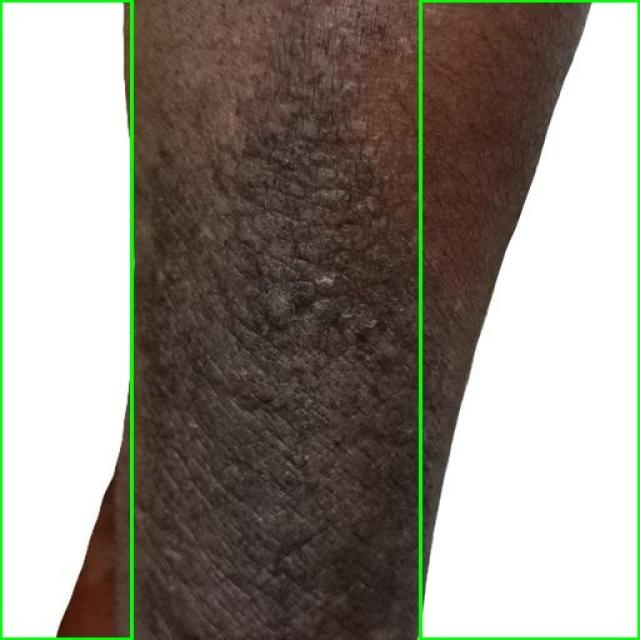Eczema: (420, 0, 639, 639), (0, 0, 131, 639)
